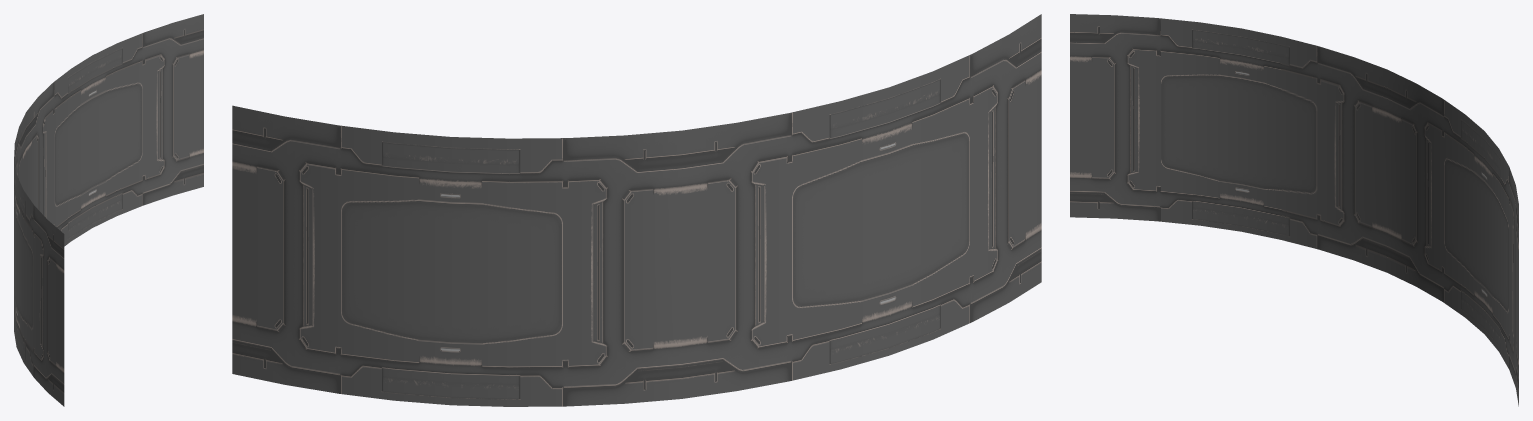
File: S_ShortWallMetal2CornerOuter.gltf
3 views of the same model, side by side, from view 1: azimuth 30°, elevation 25°; view 2: azimuth 150°, elevation 25°; view 3: azimuth 270°, elevation 25° (orthographic). The views are drawn at different scales.
Visible parts, largest first — view 1: Plane_278-col; view 2: Plane_278-col; view 3: Plane_278-col.
Boxes of the visible parts, x1,y1,x2,y2 form: Plane_278-col: [14, 14, 203, 406]; Plane_278-col: [232, 14, 1041, 406]; Plane_278-col: [1070, 14, 1518, 406].
Size of the model in its own units: 4 by 2 by 4.
Materials: 1 (1 with a texture image).
